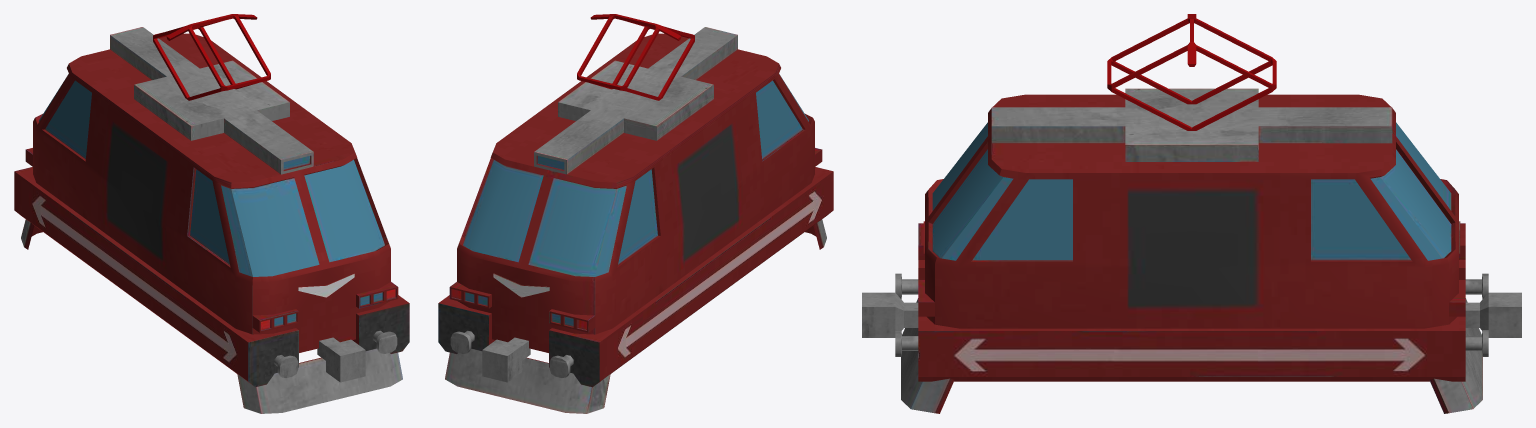
File: loco_02.gltf
3 renders of one model, left to right at view 1: azimuth 30°, elevation 25°; view 2: azimuth 150°, elevation 25°; view 3: azimuth 270°, elevation 25°, orthographic. The views are drawn at different scales.
Parts seen in each view (by area): view 1: Elect_2_Elect_2_0; view 2: Elect_2_Elect_2_0; view 3: Elect_2_Elect_2_0.
Boxes of the visible parts, x1,y1,x2,y2 form: Elect_2_Elect_2_0: (14, 14, 409, 413); Elect_2_Elect_2_0: (438, 14, 833, 413); Elect_2_Elect_2_0: (862, 14, 1521, 413).
Bounding box in the file's own units: 3.64 × 6.27 × 11.03.
